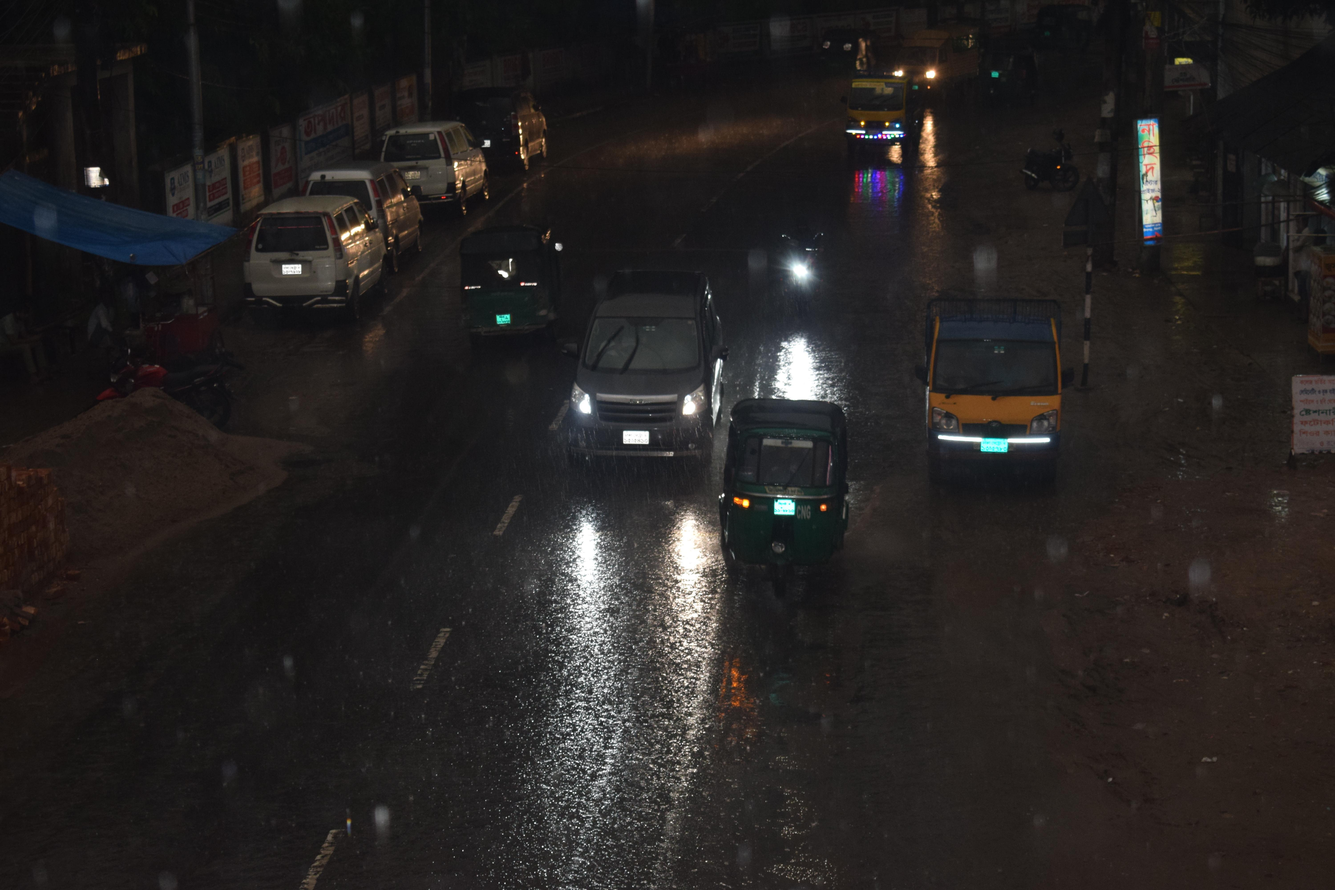Car: (530, 259, 734, 503), (207, 177, 406, 324), (359, 106, 519, 224), (437, 74, 585, 179)
Truck: (884, 239, 1133, 517), (823, 51, 947, 177)
